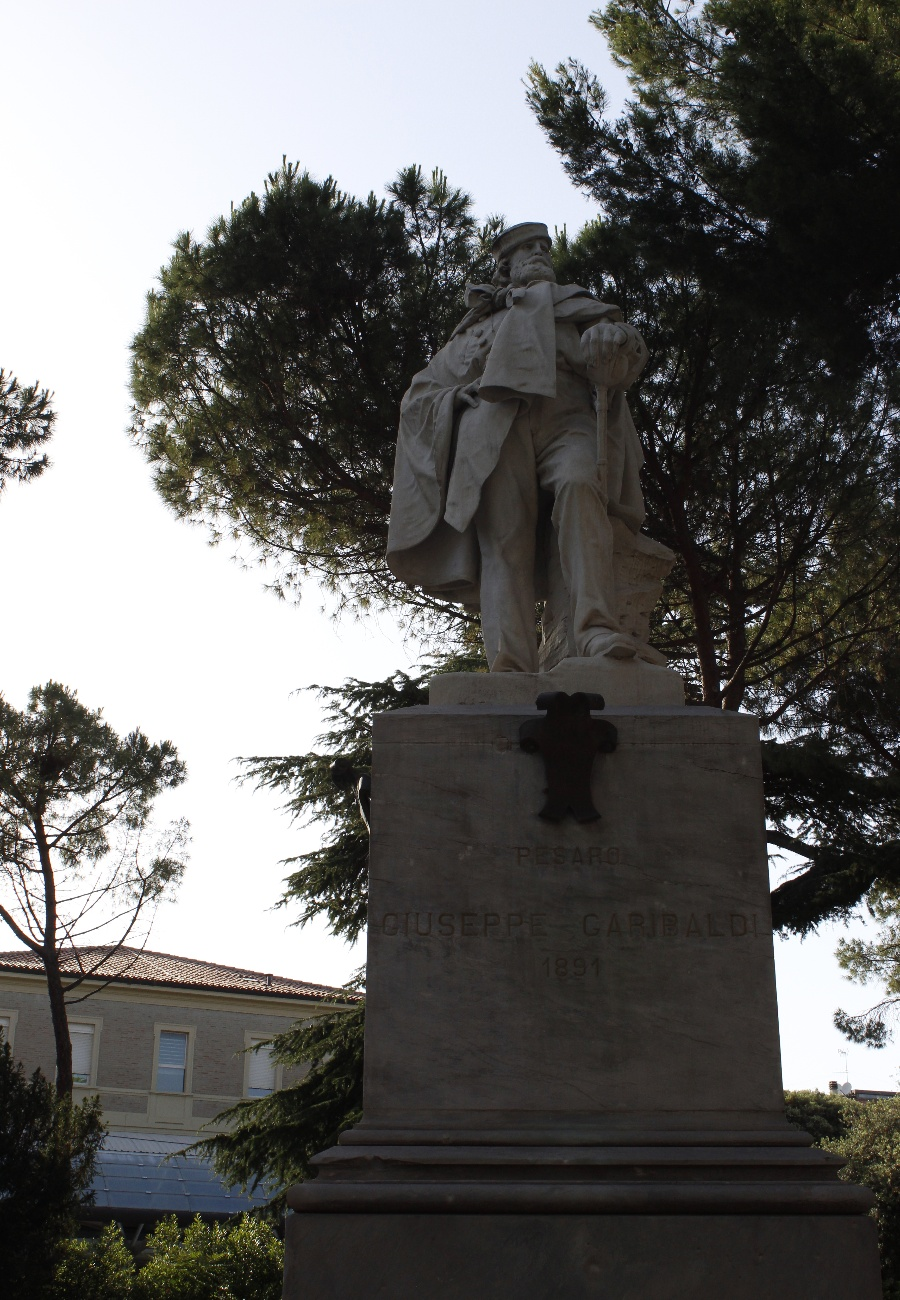Giuseppe Garibaldi: (384, 225, 648, 676)
